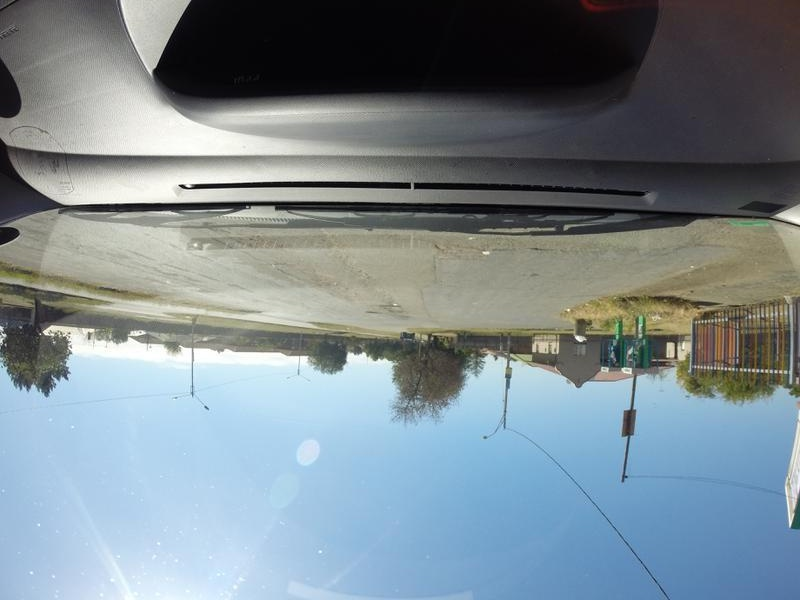pothole: (278, 265, 310, 282), (440, 244, 469, 257), (529, 247, 558, 255), (379, 303, 403, 308), (366, 309, 382, 316), (528, 271, 541, 279)
